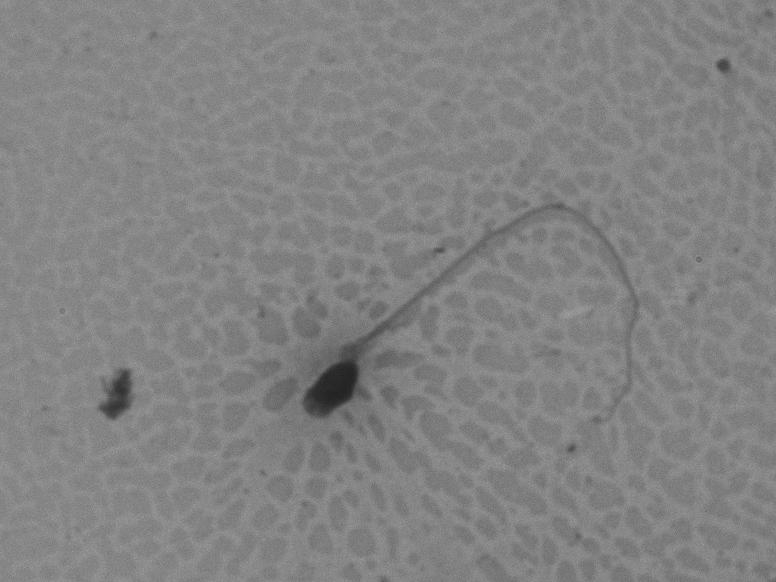Abnormal: (237, 175, 674, 474)
